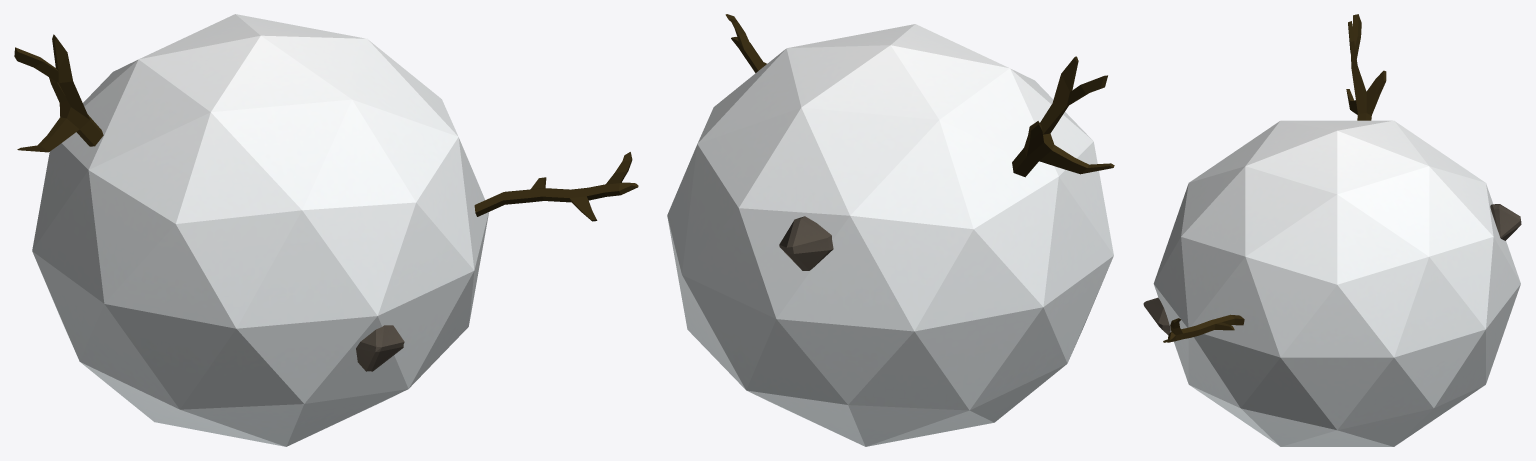
Rendered from grosse_boule.fbx.
The picture shows the model from 3 angles, left to right: view 1: azimuth 30°, elevation 25°; view 2: azimuth 150°, elevation 25°; view 3: azimuth 270°, elevation 25°; orthographic projection. The views are drawn at different scales.
Visible parts, largest first — view 1: Icosphere.006, Cylinder.006, Cylinder.007, Cube.004; view 2: Icosphere.006, Cylinder.006, Cube.005, Cylinder.007; view 3: Icosphere.006, Cylinder.006, Cylinder.007, Cube.005, Cube.004.
Boxes of the visible parts, left/top/right/bottom form: Icosphere.006: left=32, top=14, right=488, bottom=446; Cylinder.006: left=14, top=34, right=103, bottom=152; Cylinder.007: left=474, top=152, right=638, bottom=221; Cube.004: left=356, top=325, right=404, bottom=371; Icosphere.006: left=667, top=24, right=1113, bottom=446; Cylinder.006: left=1012, top=56, right=1114, bottom=177; Cube.005: left=779, top=216, right=833, bottom=270; Cylinder.007: left=725, top=14, right=766, bottom=72; Icosphere.006: left=1153, top=120, right=1520, bottom=446; Cylinder.006: left=1346, top=14, right=1386, bottom=120; Cylinder.007: left=1163, top=314, right=1244, bottom=342; Cube.005: left=1490, top=204, right=1521, bottom=240; Cube.004: left=1143, top=297, right=1170, bottom=334.
Bounding box in the file's own units: 4.02 × 3.28 × 3.3.
5 materials, 5 textured.
